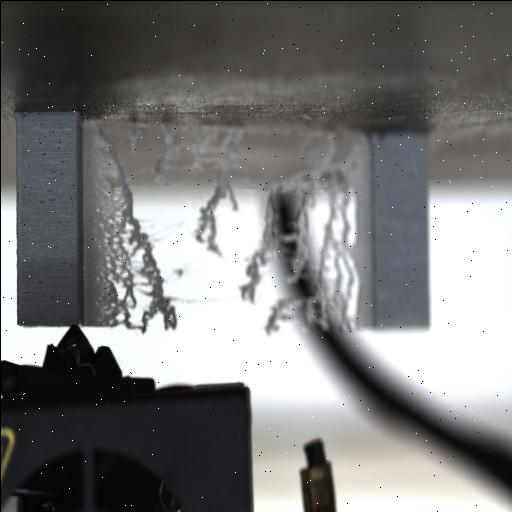stringing: (241, 152, 361, 338), (87, 122, 181, 332), (190, 121, 240, 258)
